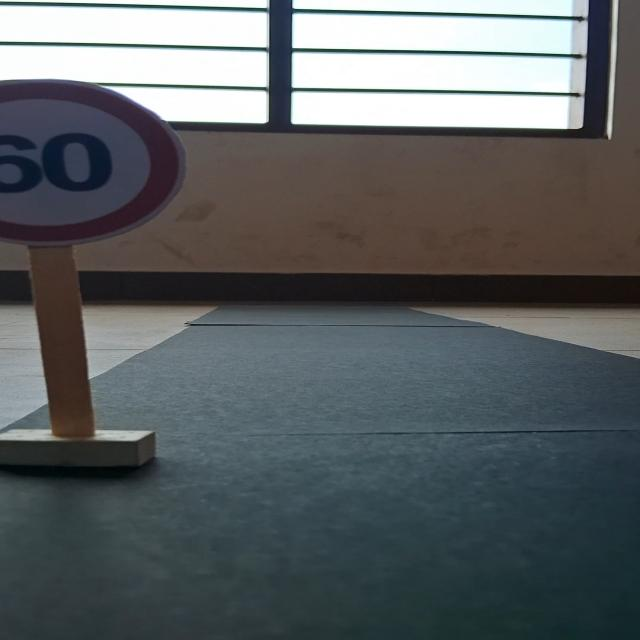Speed60: (0, 77, 178, 249)
